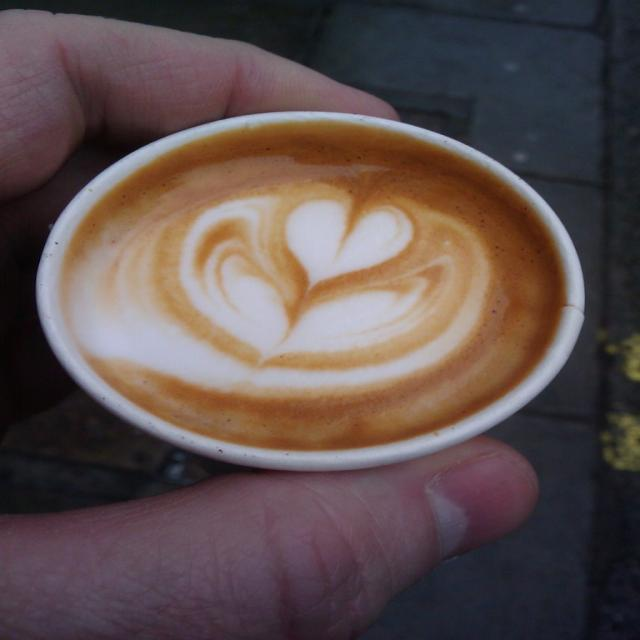latte: (37, 113, 587, 463)
